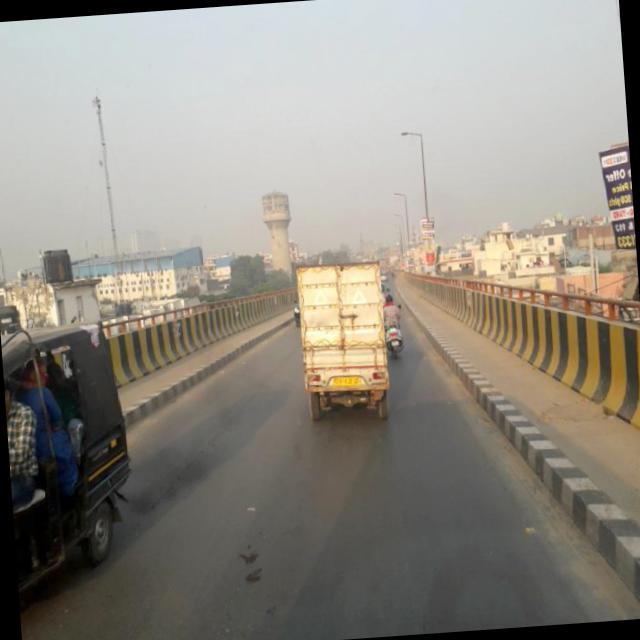crack: (130, 356, 300, 525)
